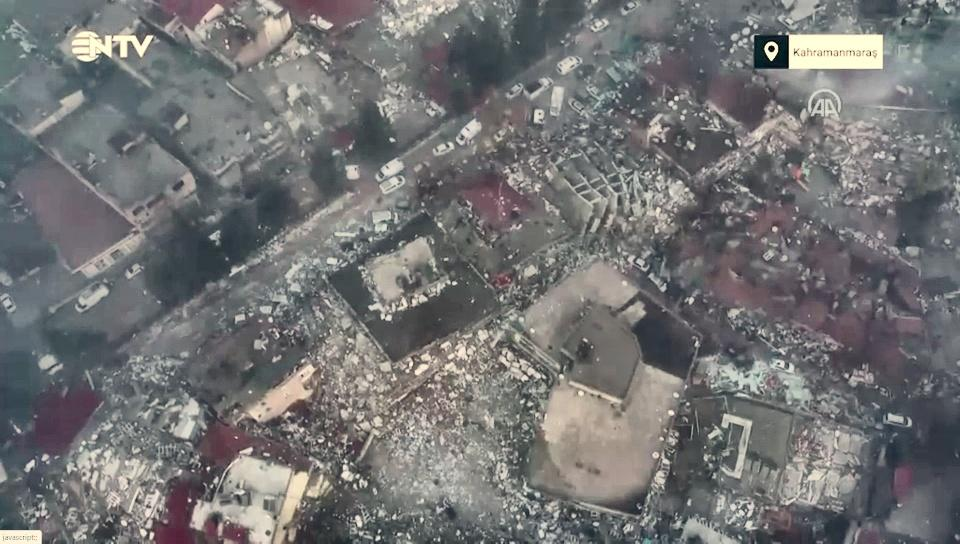kapali: (0, 315, 196, 483), (410, 75, 572, 208)
